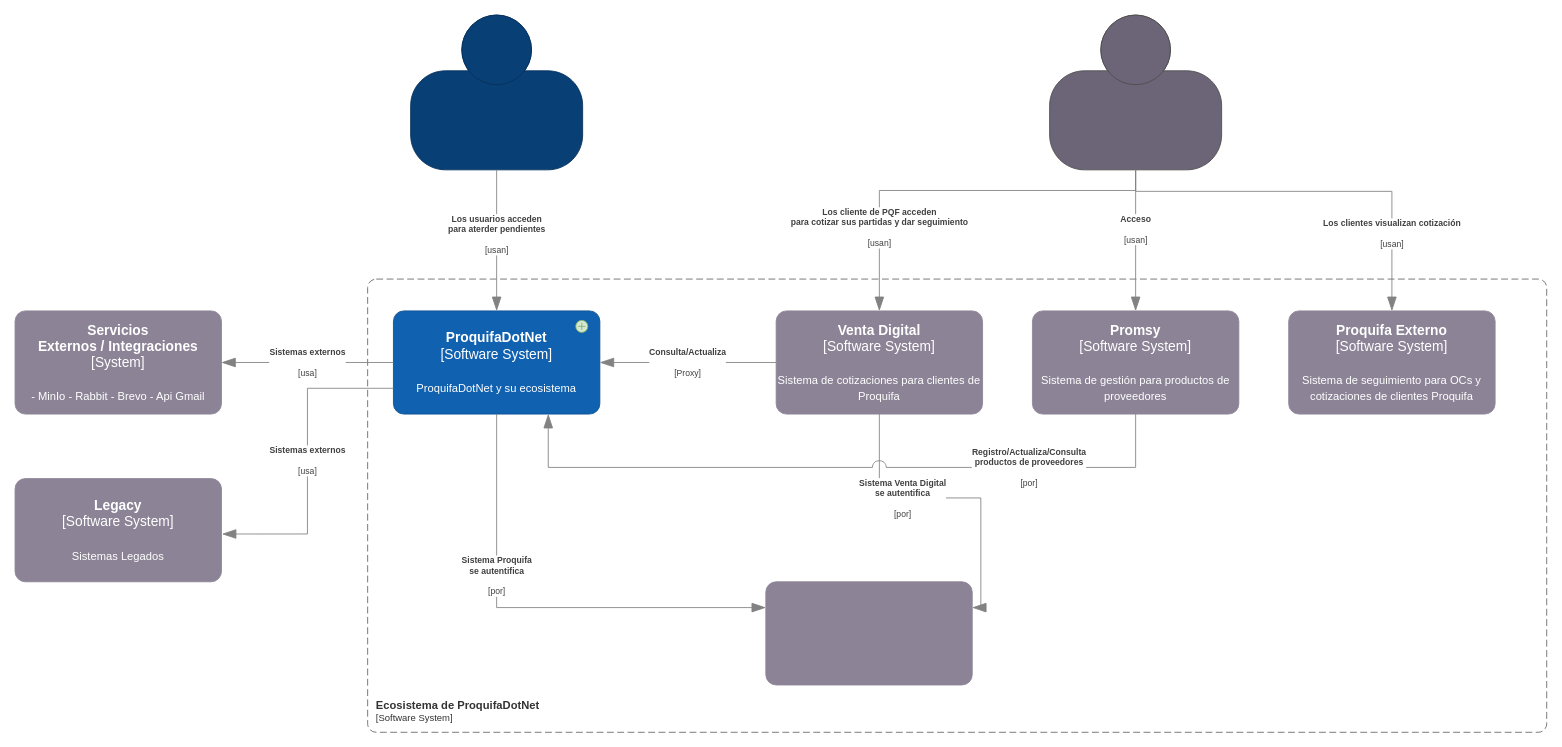
Image size: 1562x747. Some labels were removed from this diagram. The shapes that lost their labels are listed below. From the top down, each one's centre as x and y in pixels, then its label:
At pixel 496 92: "Usuario Interno [Persona] Usuarios Proquifa".
At pixel 1135 92: "Cliente Externo [Persona] Clientes y/o Proveedores Proquifa".
At pixel 868 633: "Identity Server [Software System] Sistema Autenticación de Identidad Proquifa".
